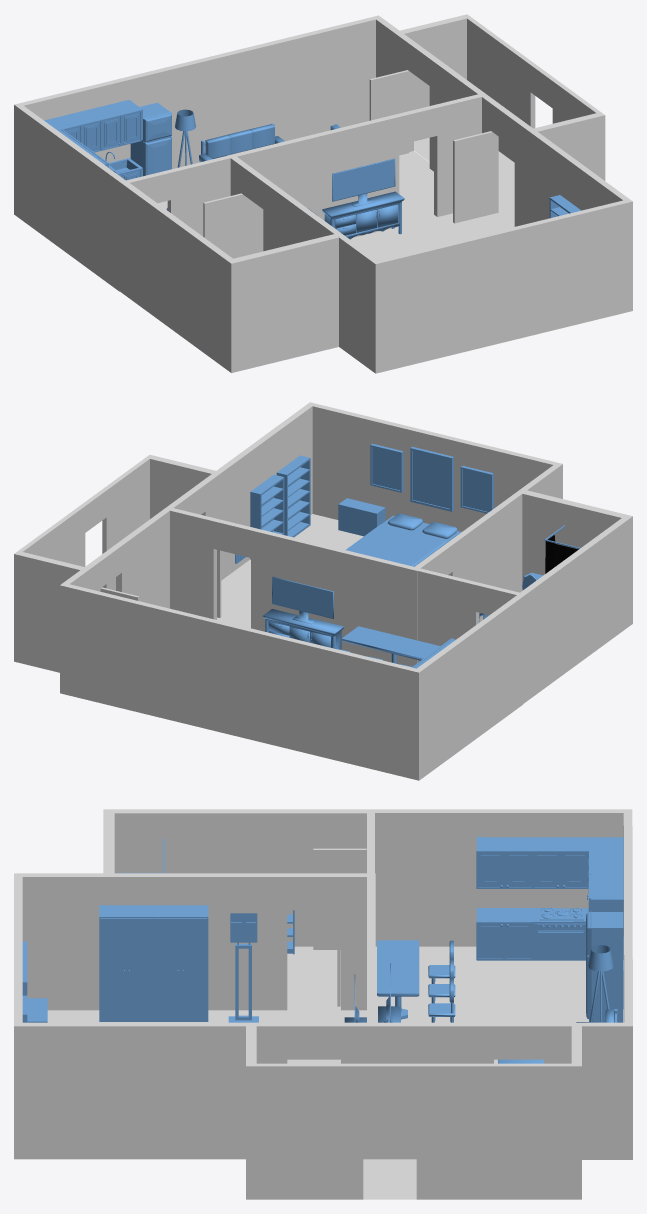
The model's file is Room1a.glb.
3 renders of one model, top to bottom at view 1: azimuth 30°, elevation 25°; view 2: azimuth 150°, elevation 25°; view 3: azimuth 270°, elevation 25°, orthographic. The views are drawn at different scales.
Visible parts, largest first — view 1: ROOM FINISHED 1; view 2: ROOM FINISHED 1; view 3: ROOM FINISHED 1.
Part boxes in pixels (x1,y1,x2,y2): ROOM FINISHED 1: [14, 14, 632, 373]; ROOM FINISHED 1: [14, 402, 632, 780]; ROOM FINISHED 1: [14, 809, 632, 1199].
Bounding box in the file's own units: 8.55 × 2.09 × 8.71.
